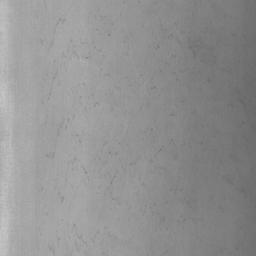Silk spot: (188, 38, 202, 58), (57, 118, 70, 136)
